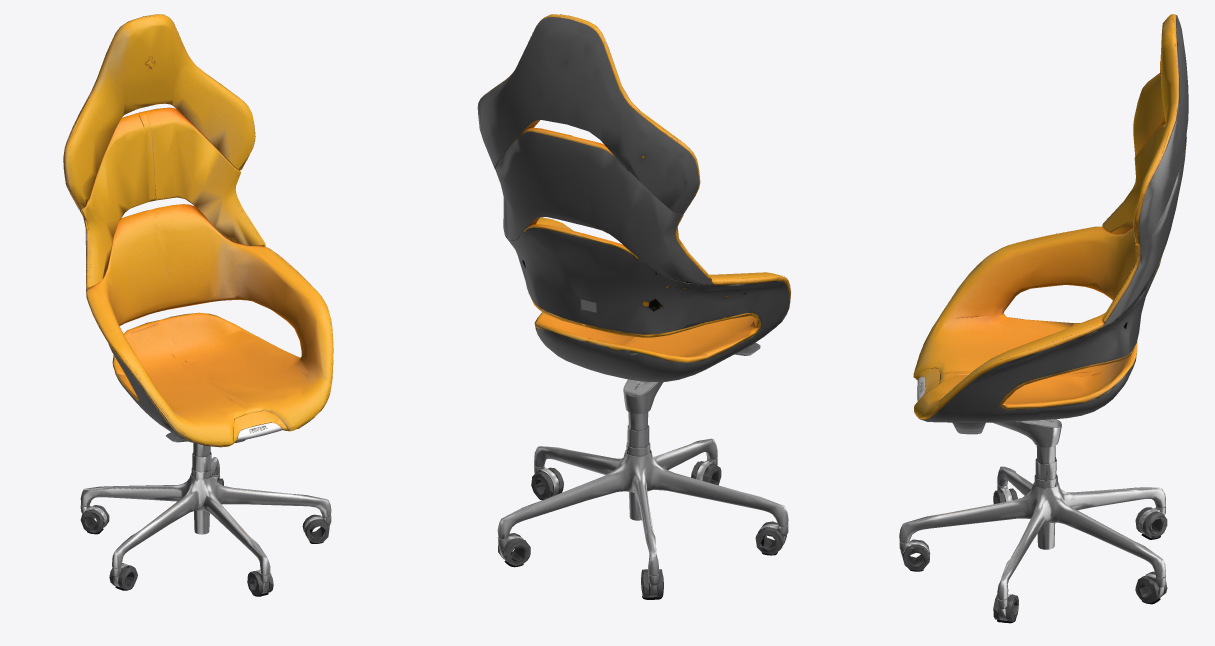
Rendered from raw_model_simplified.obj.
The picture shows the model from 3 angles, left to right: view 1: azimuth 30°, elevation 25°; view 2: azimuth 150°, elevation 25°; view 3: azimuth 270°, elevation 25°; orthographic projection. The views are drawn at different scales.
Parts seen in each view (by area): view 1: solid_002, solid_003, solid_004, solid_001; view 2: solid_001, solid_003, solid_002, solid_004; view 3: solid_002, solid_001, solid_003, solid_004.
Boxes of the visible parts, x1,y1,x2,y2 form: solid_002: (63,14,333,446); solid_003: (80,422,331,593); solid_004: (80,478,329,595); solid_001: (63,14,309,447); solid_001: (477,17,789,381); solid_003: (497,342,788,597); solid_002: (483,14,790,362); solid_004: (498,461,783,597); solid_002: (913,14,1185,419); solid_001: (918,15,1188,422); solid_003: (899,376,1165,620); solid_004: (903,488,1167,621).
Bounding box in the file's own units: 0.6299 × 1.25 × 0.6494.
Materials: 1 (1 with a texture image).
